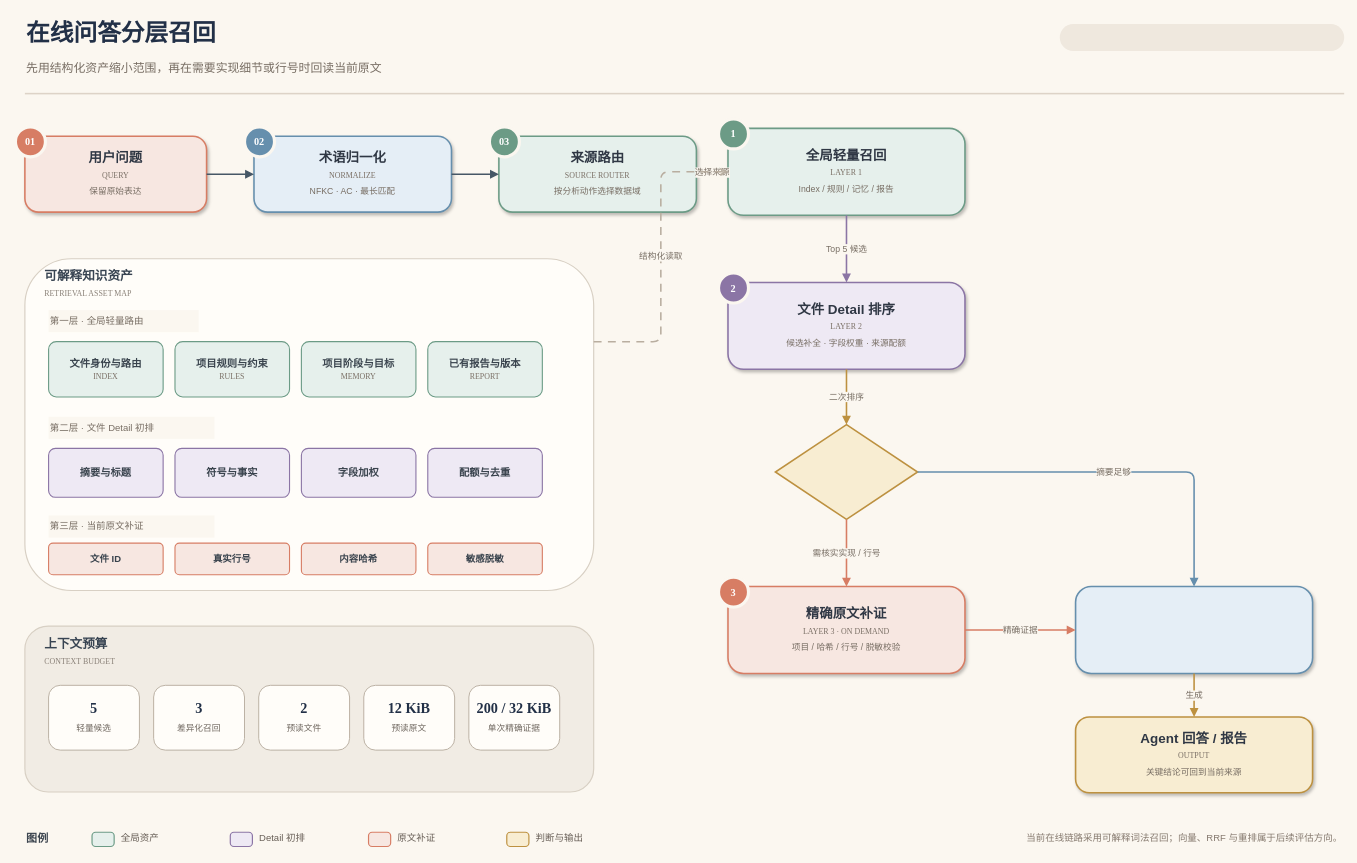
Image size: 1357x863. Some labels were removed from this diagram. Here are the shapes that lost their labels. From the top down, the centre of each, then its label:
the point at 1201,37: LAYERED RETRIEVAL · EVIDENCE FIRST
the point at 846,471: 证据是否足够？ EVIDENCE GATE
the point at 1194,630: 带来源的回答上下文 GROUNDED CONTEXT 摘要与原文证据分层装配
